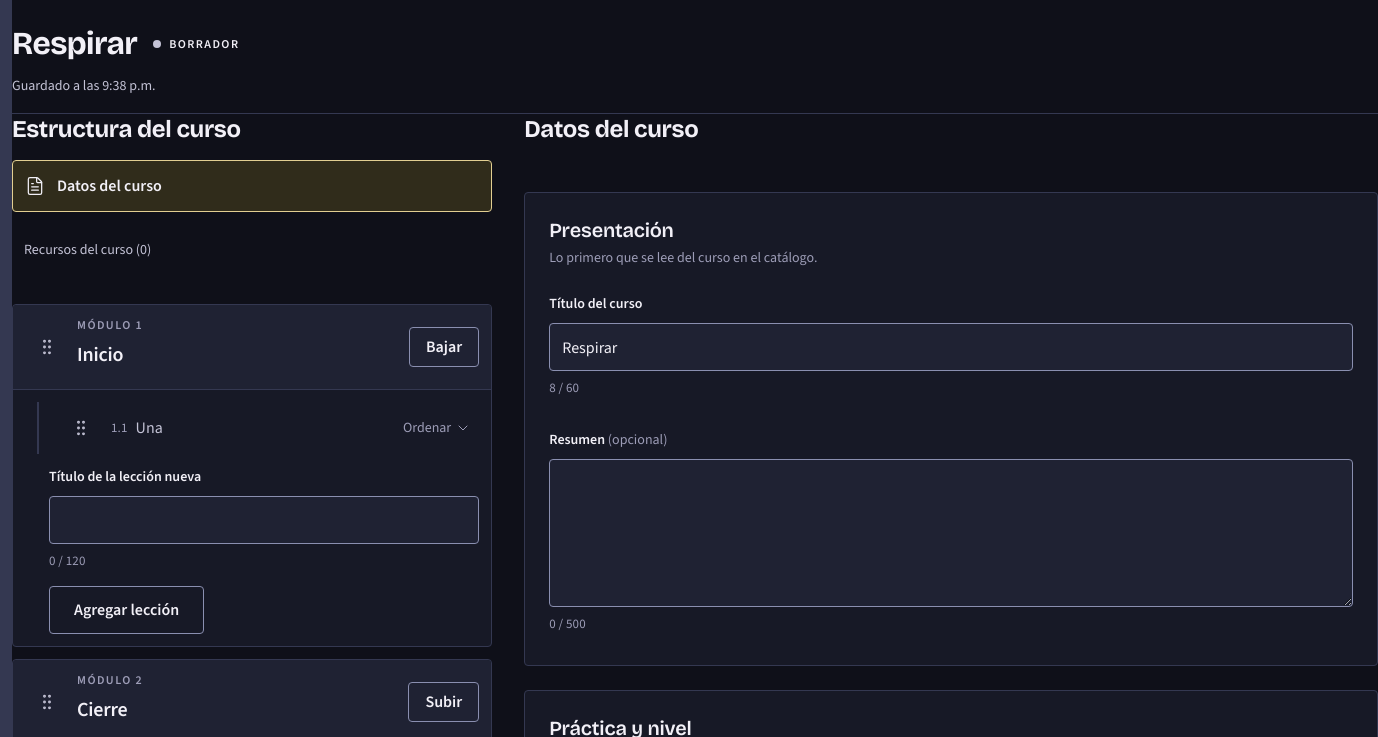
Test: los bloques del editor › si otra pestaña cambió los datos, se pinta lo de ahora y no lo escrito
Step 1. Replace the text in the field labelled "Título del curso" with "Mío" → (951,347), box [549,323,1353,371]
(page scrolled)
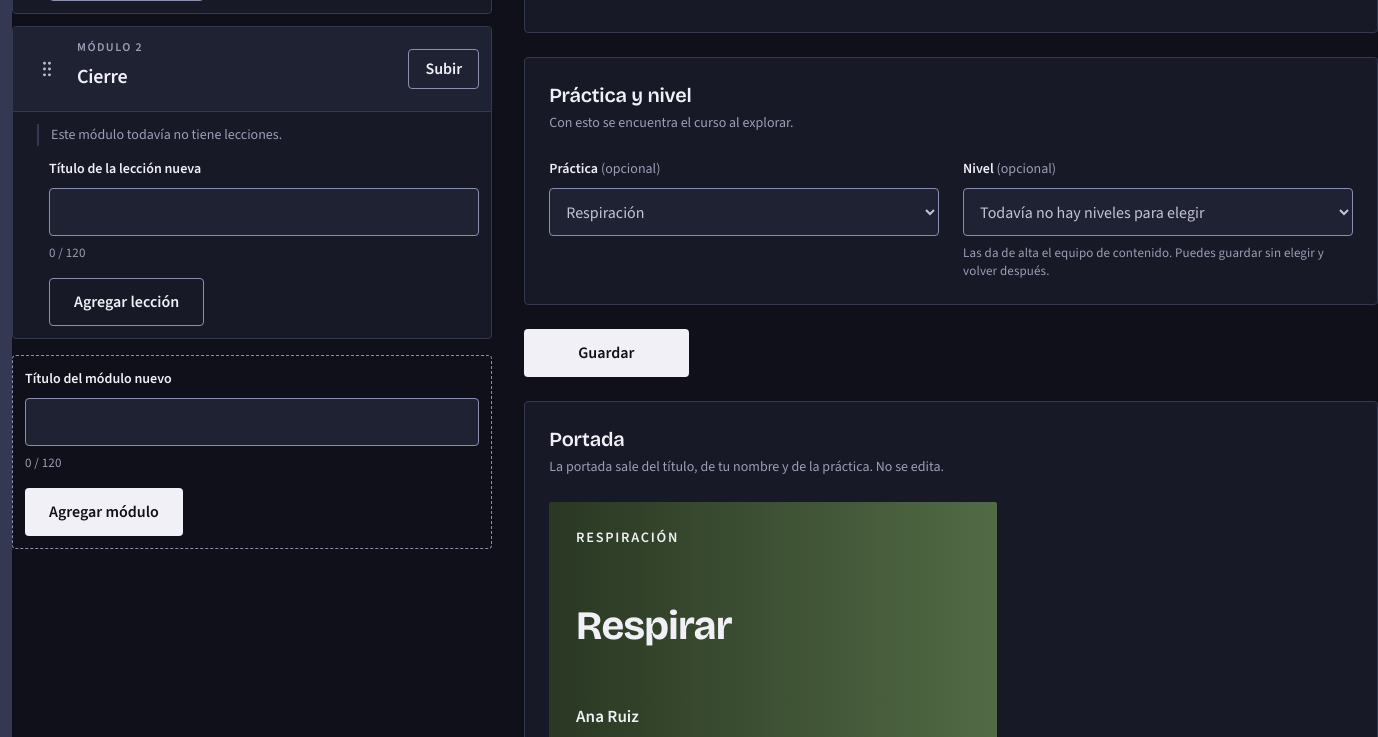
Step 2. Click the button "Guardar" → (606,353), box [524,329,688,377]
(page scrolled)
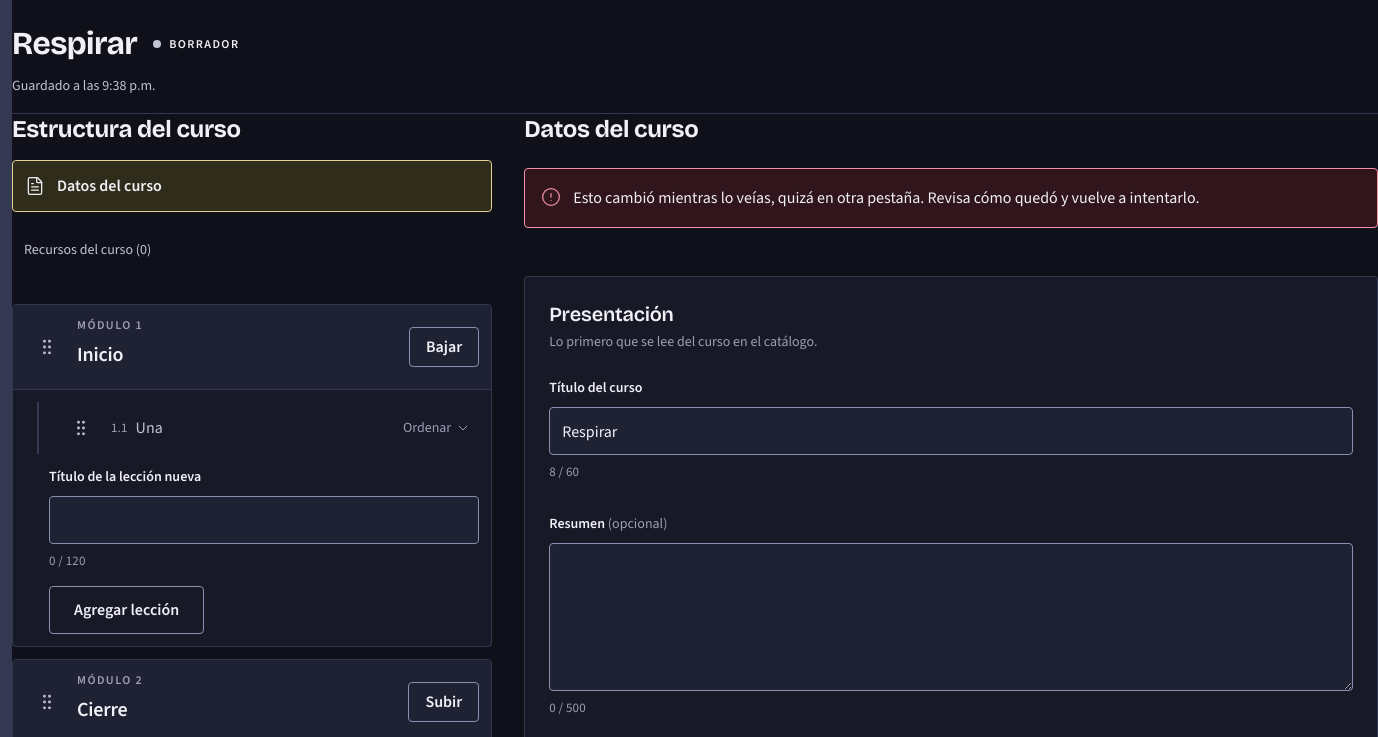
Expected: the text "Esto cambió mientras lo veías" is shown, [573,187,1199,208]
Expected: the field labelled "Título del curso" holds "Respirar", [549,407,1353,455]
